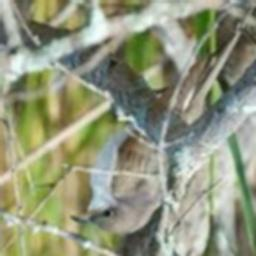Cuckoo: (69, 45, 231, 233)
